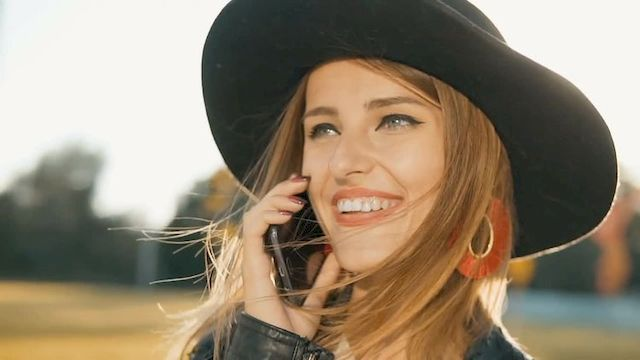phone: (243, 165, 333, 304)
talk: (240, 96, 453, 337)
